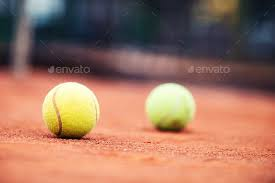tennis_ball: (41, 80, 101, 142), (144, 82, 195, 133)
